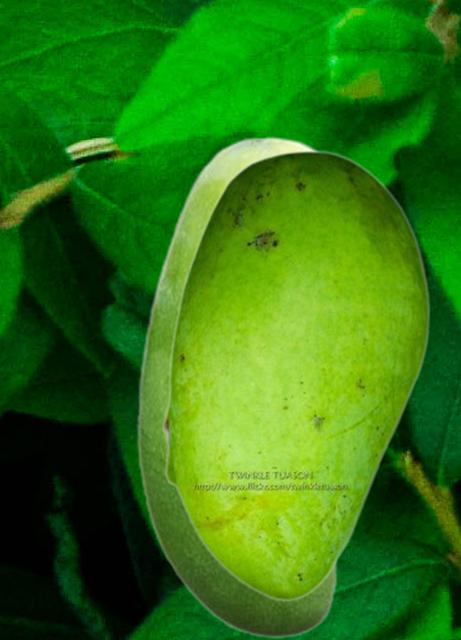green_mango: (161, 149, 430, 601), (136, 135, 341, 638)
